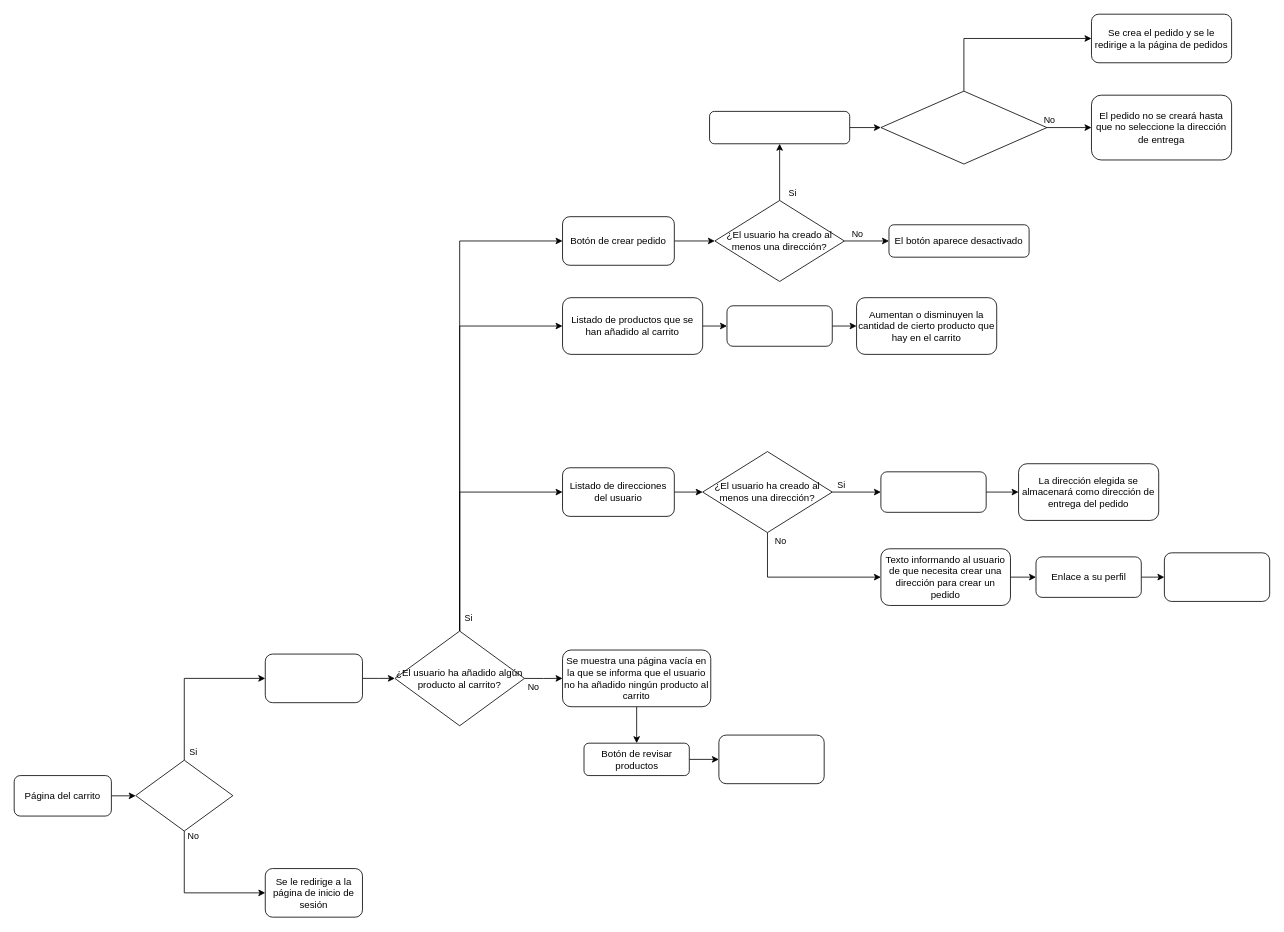
Some shapes in this 1284 by 932 pixel diagram are drawn without their labels. Here are the shapes that lost their labels. From the top down, the centre of each, then its label:
the point at 779,127: El botón aparece activado
the point at 963,127: ¿El usuario ha seleccionado la dirección de entrega?
the point at 779,325: Botones de cantidad
the point at 933,491: Selector de dirección
the point at 1217,576: Se le redirige a la página de su perfil
the point at 313,678: Se muestra la página del carrito
the point at 771,759: Se le redirige a la página de productos
the point at 184,795: ¿El usuario ha iniciado sesión?
